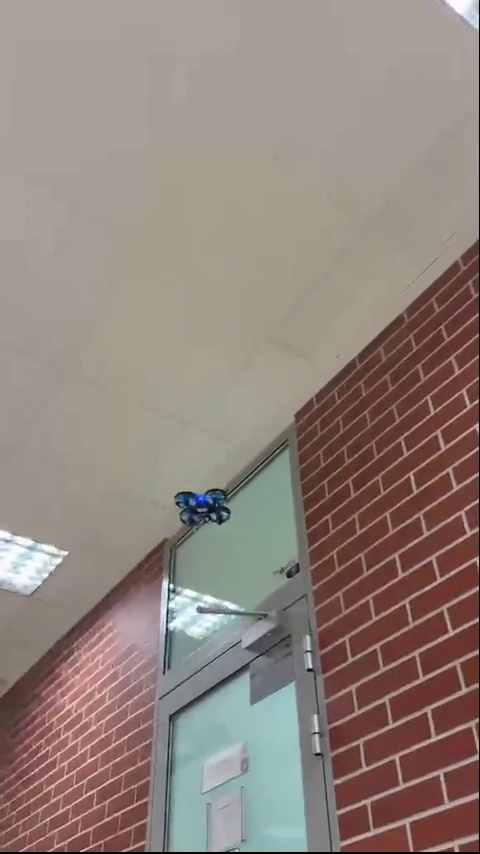drone: (176, 487, 225, 529)
